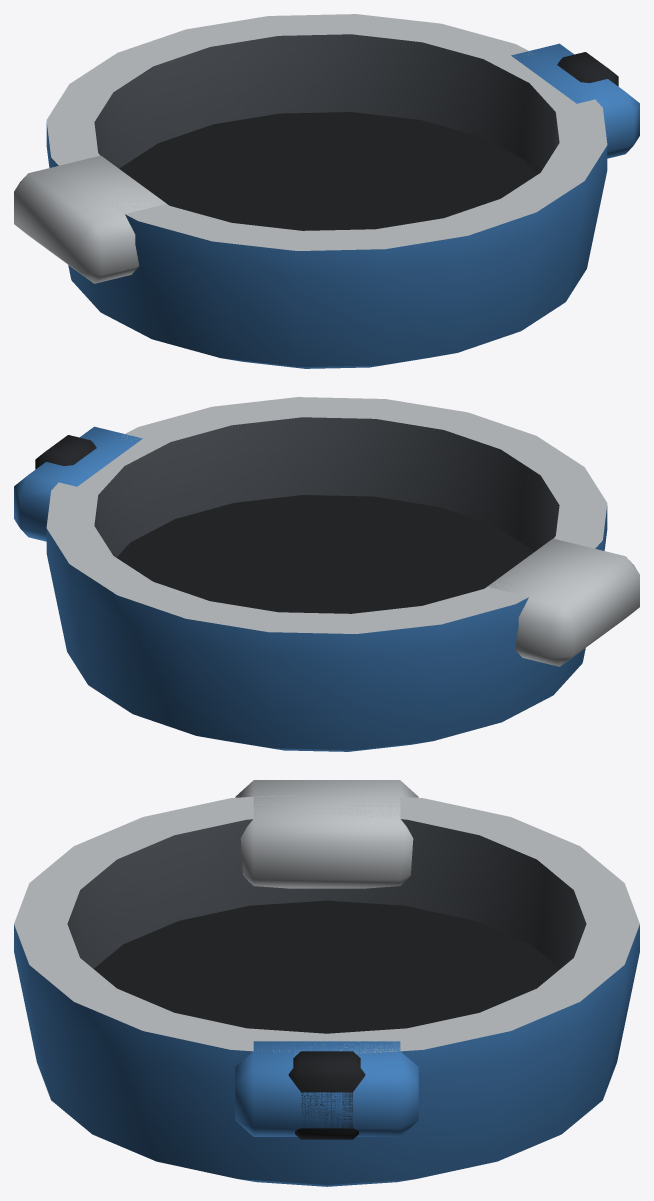
File: SM_OilDrainPan_01.glb
The picture shows the model from 3 angles, top to bottom: view 1: azimuth 30°, elevation 25°; view 2: azimuth 150°, elevation 25°; view 3: azimuth 270°, elevation 25°; orthographic projection. The views are drawn at different scales.
Parts seen in each view (by area): view 1: SM_OilDrainPan_01; view 2: SM_OilDrainPan_01; view 3: SM_OilDrainPan_01.
Part boxes in pixels (x1,y1,x2,y2): SM_OilDrainPan_01: (14,14,639,368); SM_OilDrainPan_01: (14,397,639,751); SM_OilDrainPan_01: (14,780,639,1186).
Size of the model in its own units: 0.47 by 0.125 by 0.41.
1 material, 1 textured.
